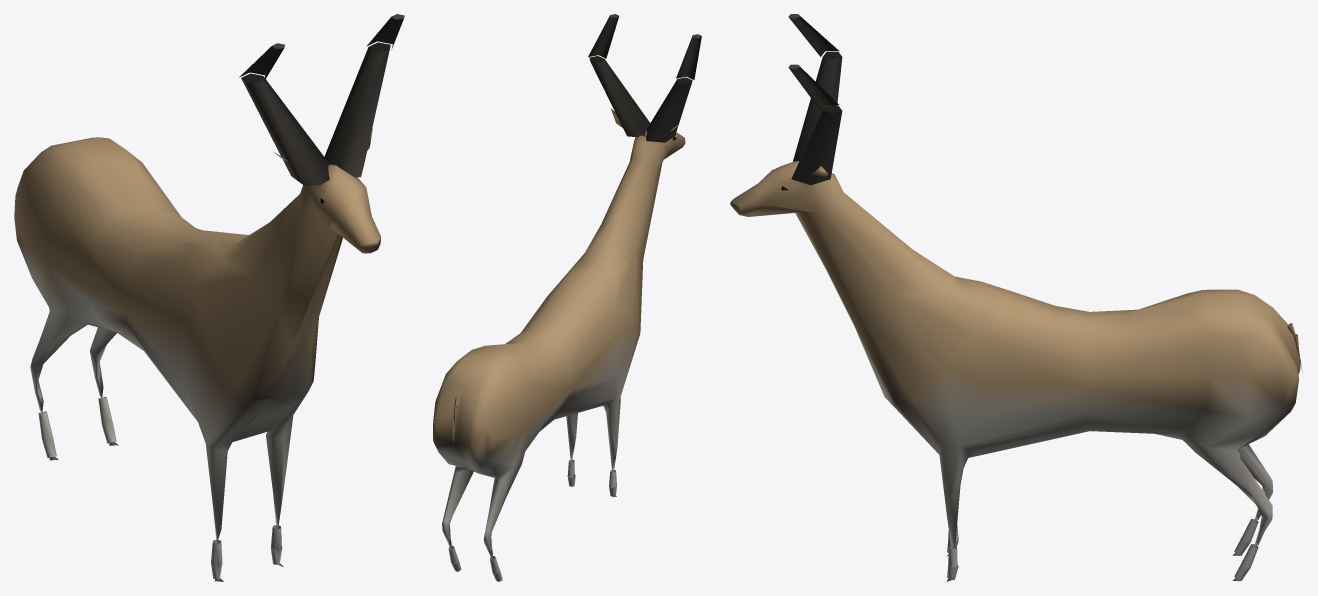
The model's file is gazelle.glb.
The picture shows the model from 3 angles, left to right: view 1: azimuth 30°, elevation 25°; view 2: azimuth 150°, elevation 25°; view 3: azimuth 270°, elevation 25°; orthographic projection. The views are drawn at different scales.
Visible parts, largest first — view 1: lack; view 2: lack; view 3: lack.
Part boxes in pixels (x1,y1,x2,y2): lack: [14, 14, 404, 581]; lack: [433, 14, 701, 581]; lack: [730, 14, 1302, 581].
Size of the model in its own units: 0.361 by 1.4 by 1.38.
